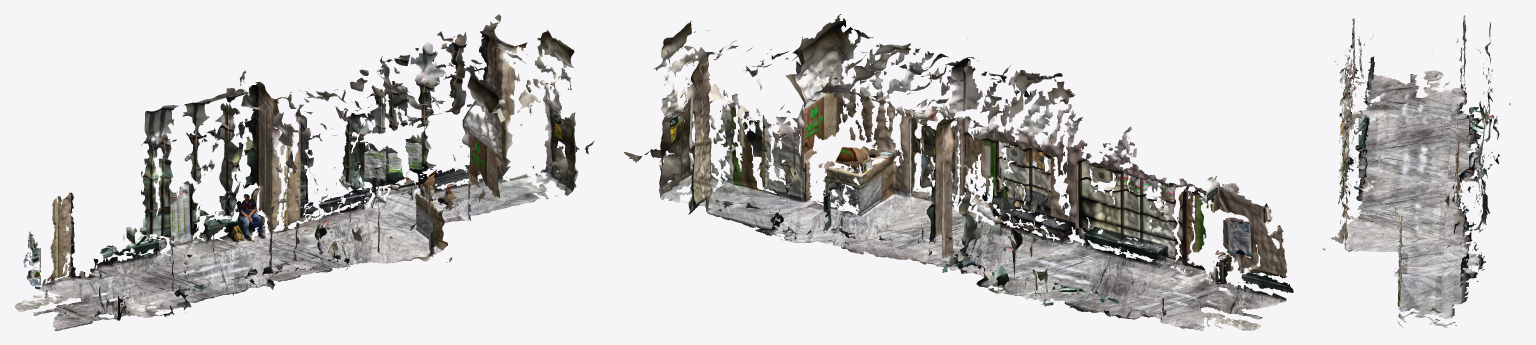
Rendered from 147431-radiologilantai2tower-tex.glb.
The picture shows the model from 3 angles, left to right: view 1: azimuth 30°, elevation 25°; view 2: azimuth 150°, elevation 25°; view 3: azimuth 270°, elevation 25°; orthographic projection. The views are drawn at different scales.
Visible parts, largest first — view 1: Node; view 2: Node; view 3: Node.
Boxes of the visible parts, box(x1,y1,x2,y2) form: Node: box(14, 14, 594, 330); Node: box(624, 14, 1293, 330); Node: box(1322, 15, 1510, 327).
Bounding box in the file's own units: 17.33 × 4.94 × 5.34.
Materials: 17 (17 with a texture image).
